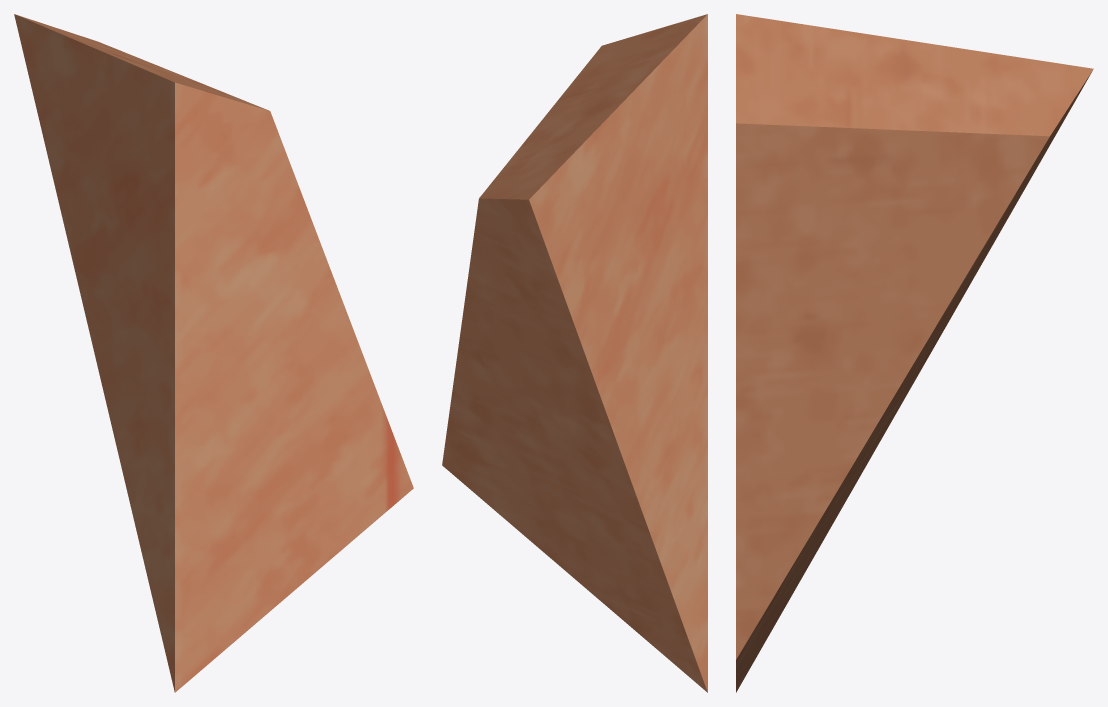
Rendered from townwall_tower_s02.fbx.
3 renders of one model, left to right at view 1: azimuth 30°, elevation 25°; view 2: azimuth 150°, elevation 25°; view 3: azimuth 270°, elevation 25°, orthographic. The views are drawn at different scales.
Parts seen in each view (by area): view 1: townwall_tower_s02; view 2: townwall_tower_s02; view 3: townwall_tower_s02.
Part boxes in pixels (box(x1,y1,x2,y2)): townwall_tower_s02: box(14, 14, 413, 692); townwall_tower_s02: box(442, 14, 707, 692); townwall_tower_s02: box(736, 14, 1093, 692).
Size of the model in its own units: 3.4 by 8.29 by 3.96.
